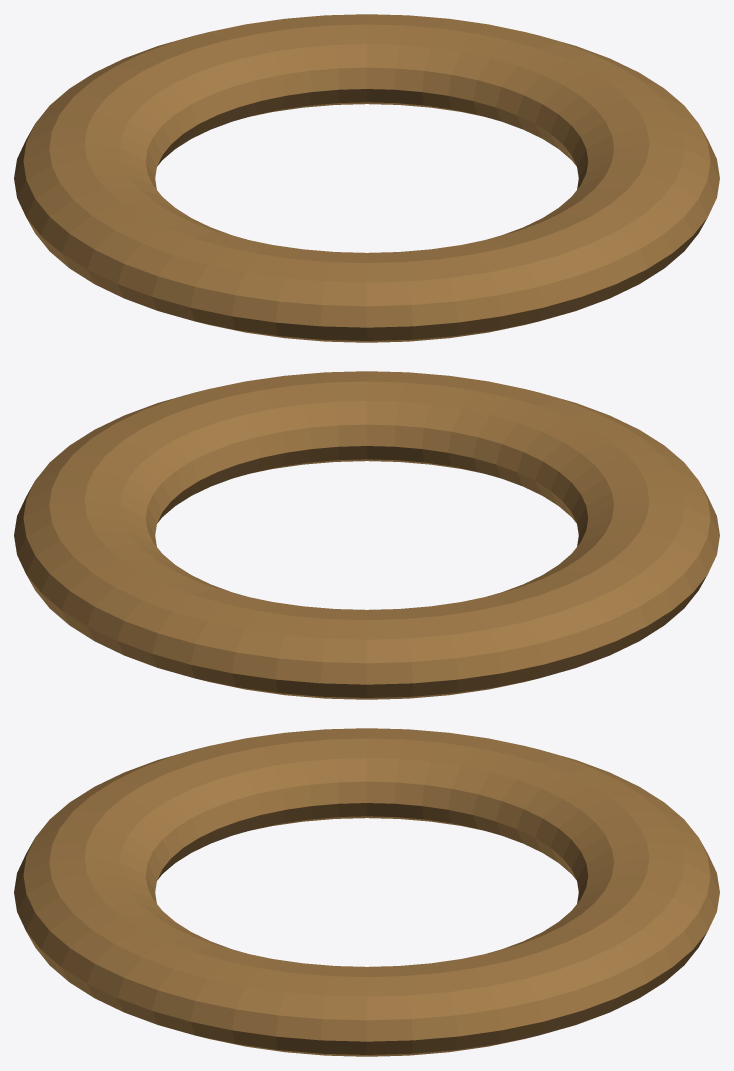
Rendered from crown.glb.
The picture shows the model from 3 angles, top to bottom: view 1: azimuth 30°, elevation 25°; view 2: azimuth 150°, elevation 25°; view 3: azimuth 270°, elevation 25°; orthographic projection.
Parts seen in each view (by area): view 1: LW signal crown; view 2: LW signal crown; view 3: LW signal crown.
Part boxes in pixels (x1,y1,x2,y2): LW signal crown: (14,14,719,342); LW signal crown: (14,371,719,699); LW signal crown: (14,728,719,1056).
Bounding box in the file's own units: 2.07 × 0.225 × 2.07.
